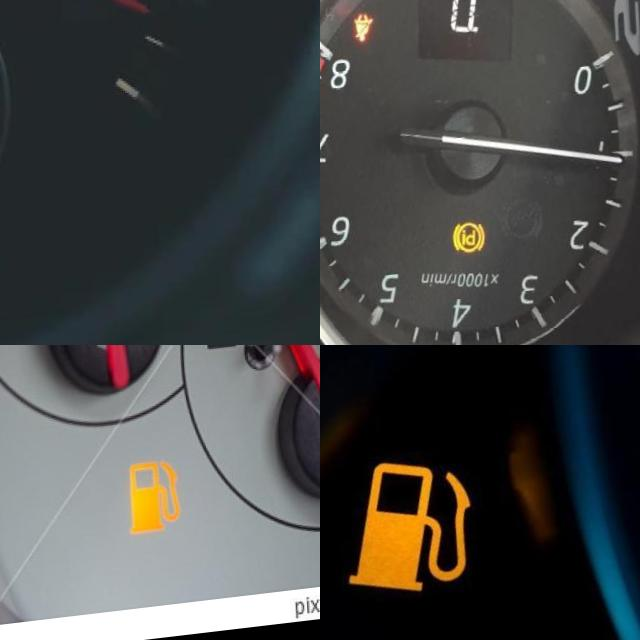Seat Belt: (348, 15, 376, 50)
